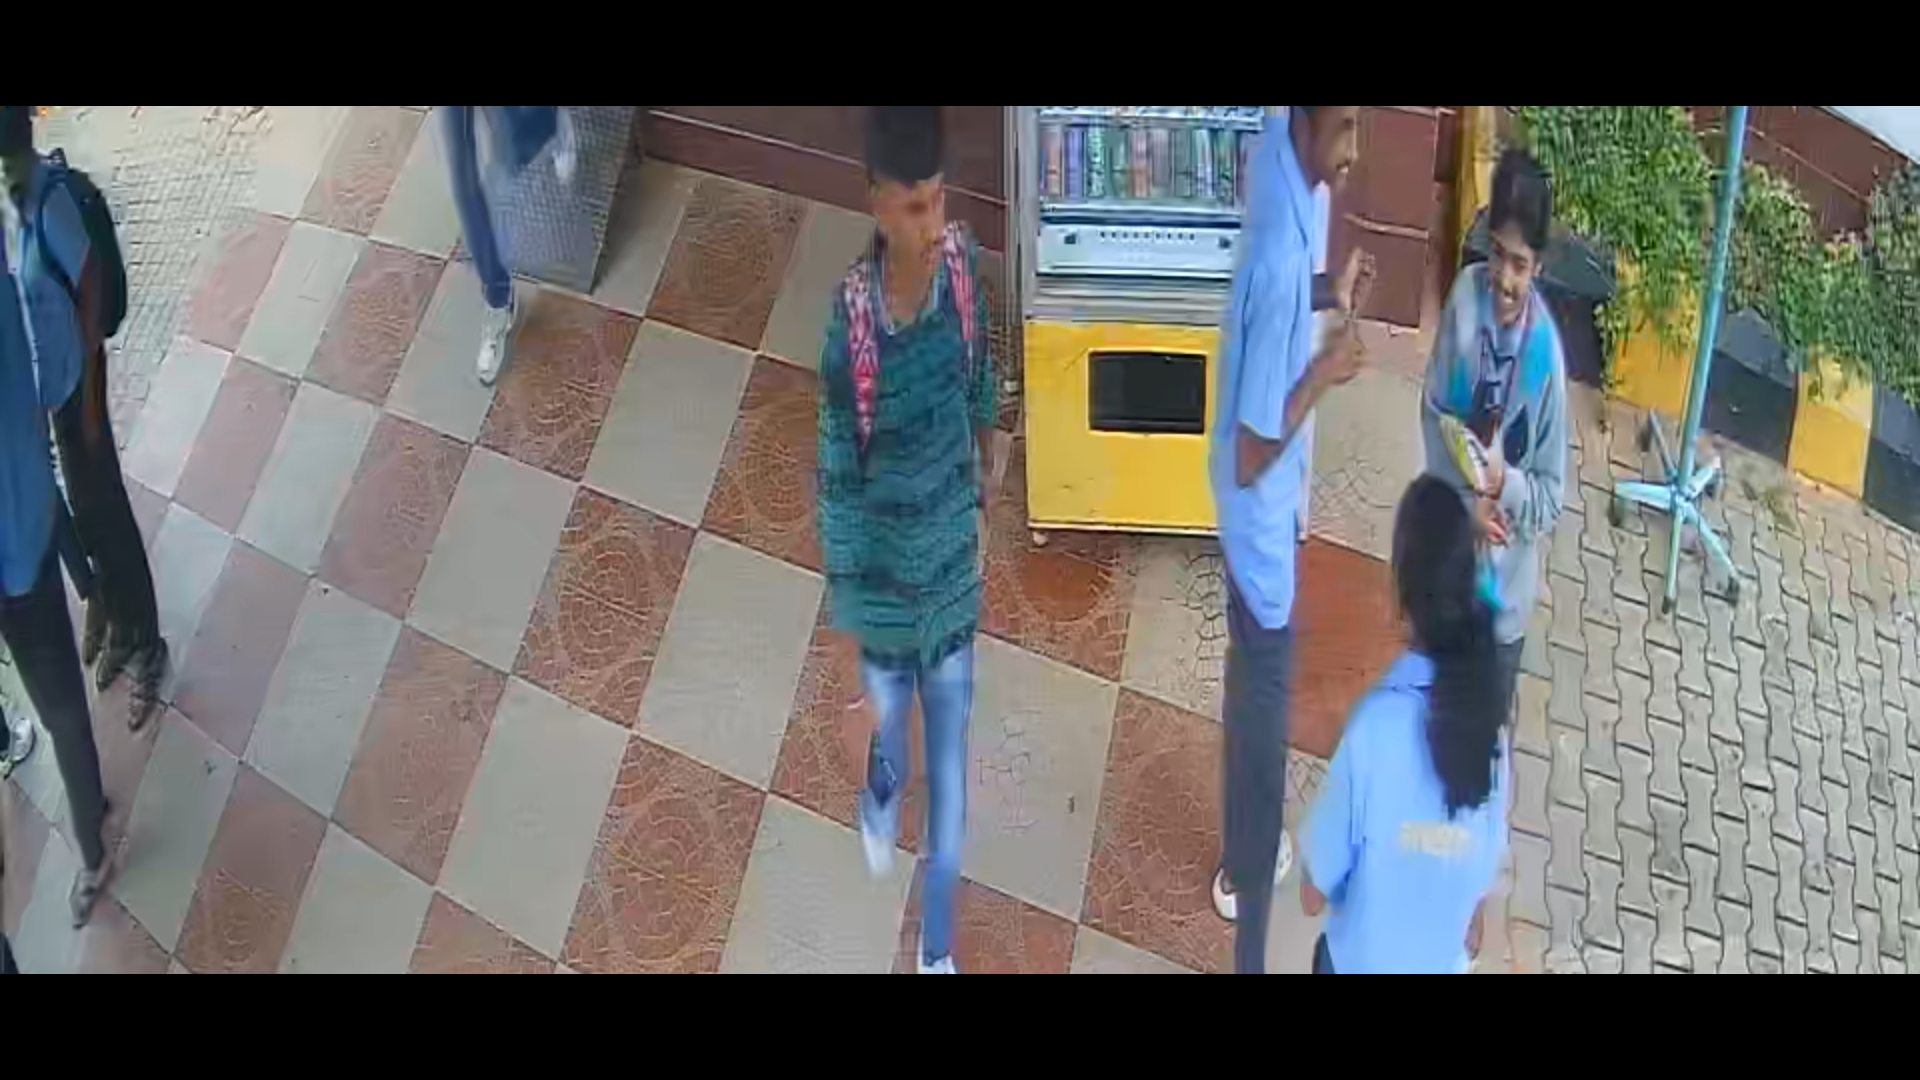intruder: (796, 116, 1022, 967)
